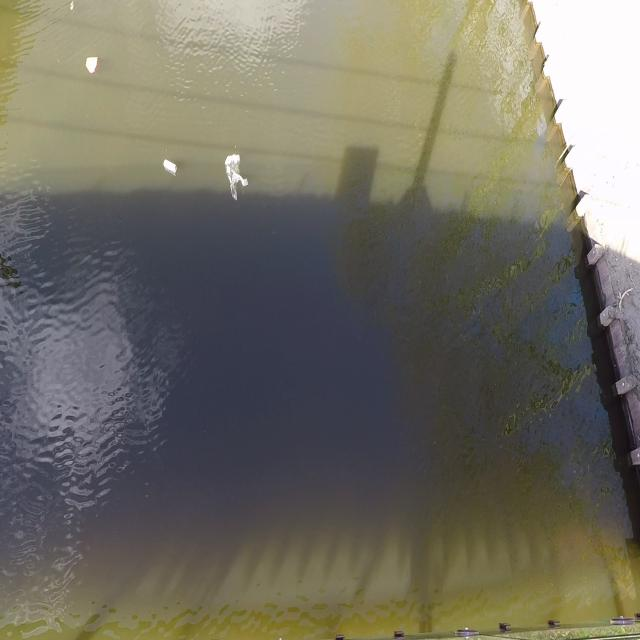Non plastique: (158, 156, 180, 178)
Sac plastique: (222, 146, 248, 204)
